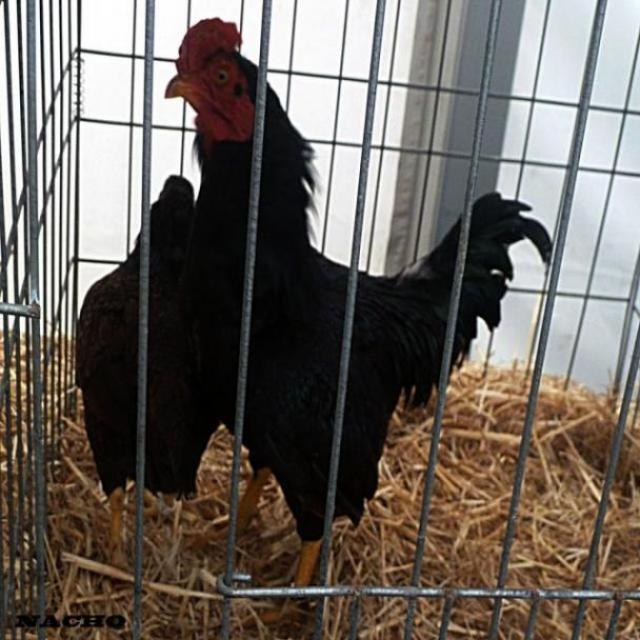Chicken: (173, 3, 552, 614), (71, 168, 222, 586)
